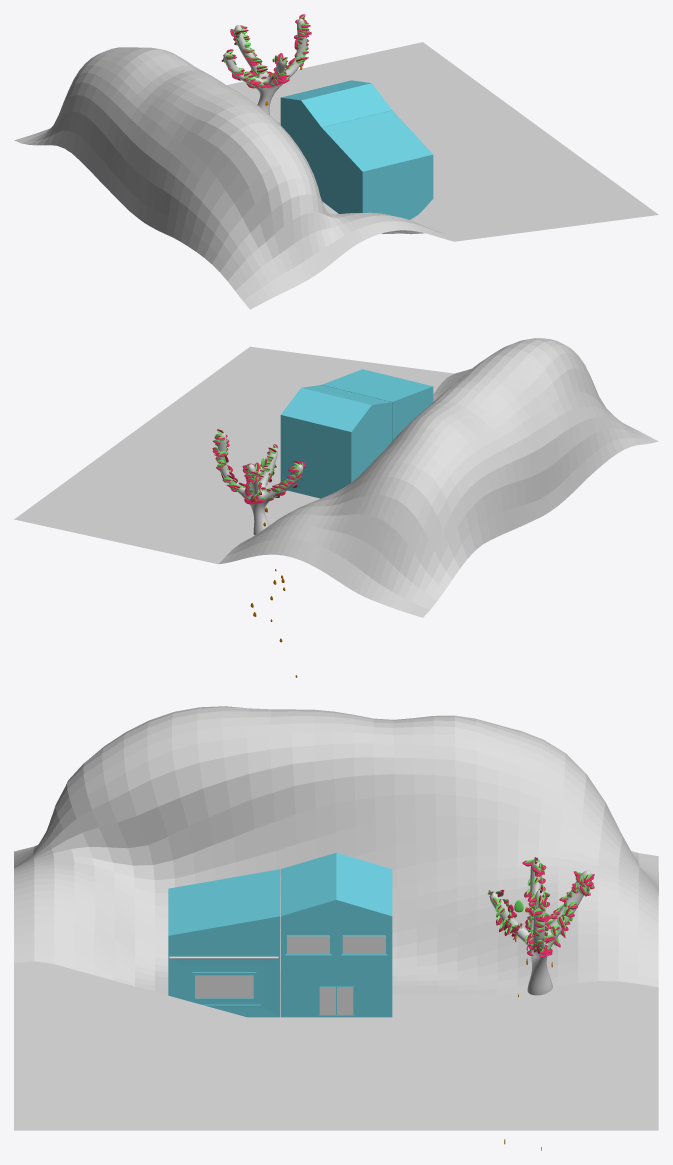
The model's file is SeasonsTree.fbx.
The picture shows the model from 3 angles, top to bottom: view 1: azimuth 30°, elevation 25°; view 2: azimuth 150°, elevation 25°; view 3: azimuth 270°, elevation 25°; orthographic projection. The views are drawn at different scales.
Visible parts, largest first — view 1: Plane, Cube.001, Cube, Cube.002; view 2: Plane, Cube, Cube.001, Cube.002; view 3: Plane, Cube, Cube.001, Cube.002.
Boxes of the visible parts, x1,y1,x2,y2 form: Plane: (14, 42, 658, 309); Cube.001: (321, 110, 433, 219); Cube: (280, 80, 391, 198); Cube.002: (223, 18, 306, 114); Plane: (14, 338, 658, 617); Cube: (280, 385, 392, 498); Cube.001: (322, 369, 433, 440); Cube.002: (218, 433, 303, 534); Plane: (14, 706, 658, 1130); Cube: (280, 852, 392, 1017); Cube.001: (168, 869, 279, 1017); Cube.002: (489, 861, 592, 995).
Size of the model in its own units: 4923 by 3068 by 4885.
